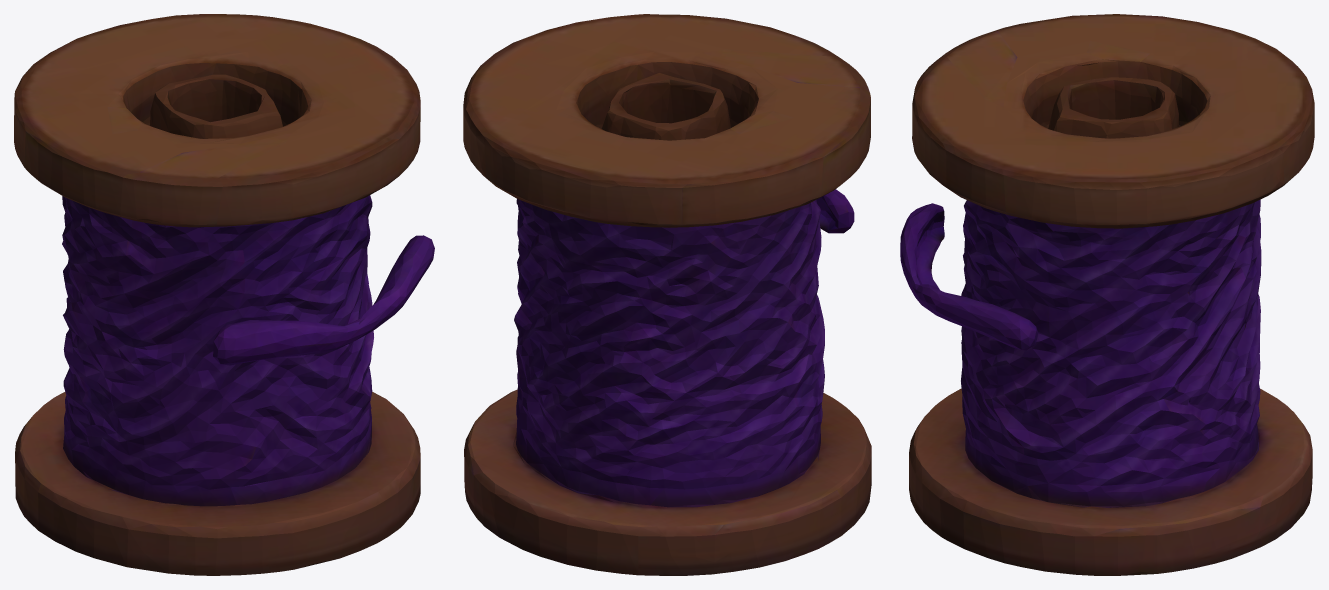
File: spool.glb
3 views of the same model, side by side, from view 1: azimuth 30°, elevation 25°; view 2: azimuth 150°, elevation 25°; view 3: azimuth 270°, elevation 25° (orthographic).
Visible parts, largest first — view 1: world; view 2: world; view 3: world.
Boxes of the visible parts, x1,y1,x2,y2 form: world: (14,14,434,575); world: (463,14,871,575); world: (900,14,1314,575).
Size of the model in its own units: 0.4546 by 0.4864 by 0.4614.
1 material, 1 textured.
